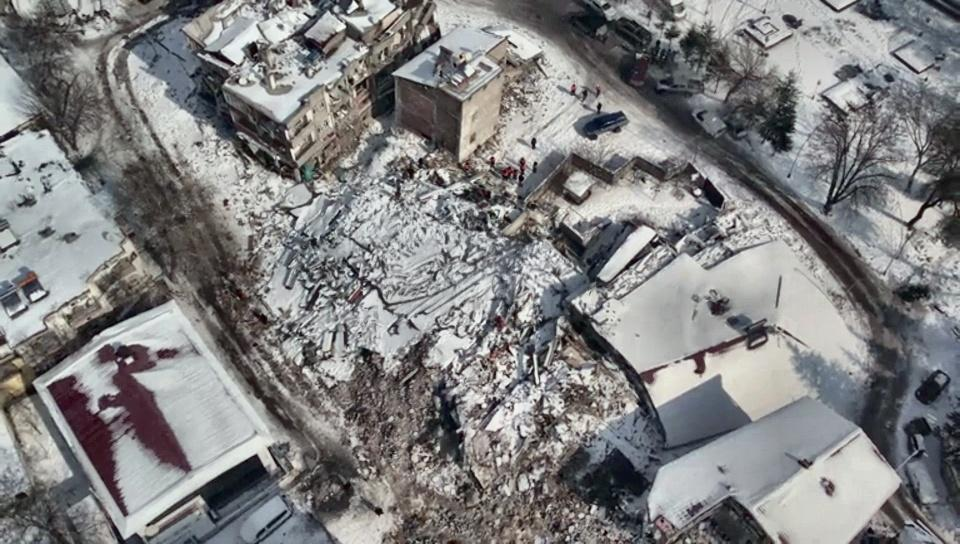kapali: (155, 211, 506, 543)
